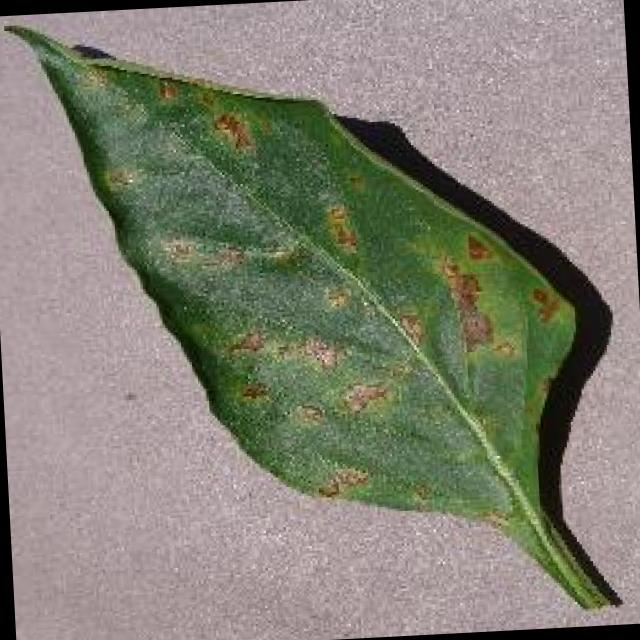Chilli_Bacterial_Spot: (0, 0, 625, 640), (204, 182, 577, 513), (432, 248, 498, 358), (434, 251, 488, 316), (319, 198, 362, 260), (310, 460, 372, 503), (206, 106, 256, 156), (336, 376, 392, 419), (454, 306, 498, 358), (298, 332, 346, 376), (222, 323, 270, 363), (524, 280, 564, 327), (392, 308, 429, 352), (96, 162, 140, 197), (284, 398, 328, 432), (460, 228, 494, 265), (318, 281, 355, 315), (233, 375, 272, 407), (149, 72, 181, 106)
